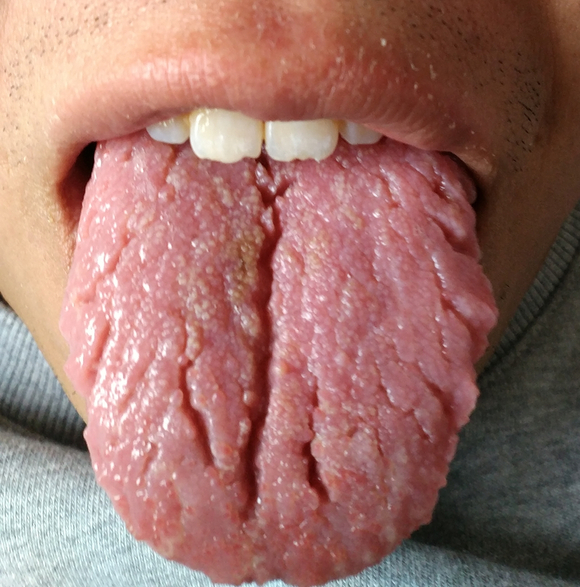hongshe: (68, 135, 497, 587)
huangtaishe: (65, 135, 498, 587)
liewenshe: (67, 137, 476, 553)
